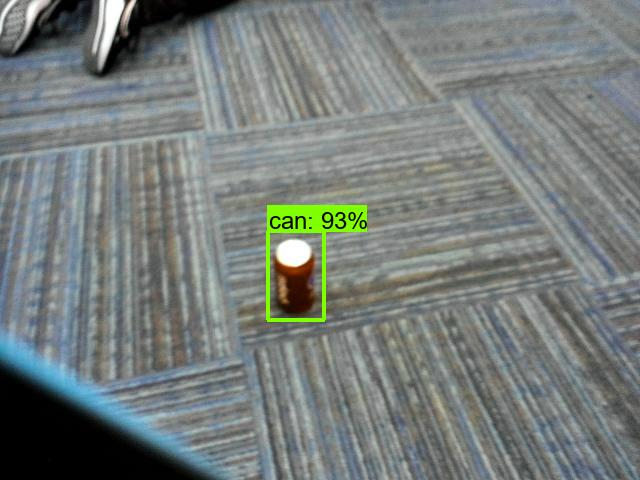can: (266, 233, 321, 320)
